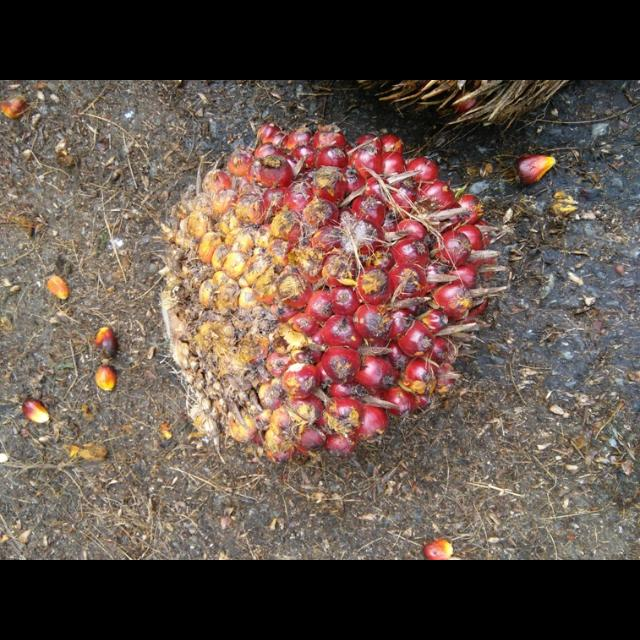Ripe: (155, 117, 498, 463)
